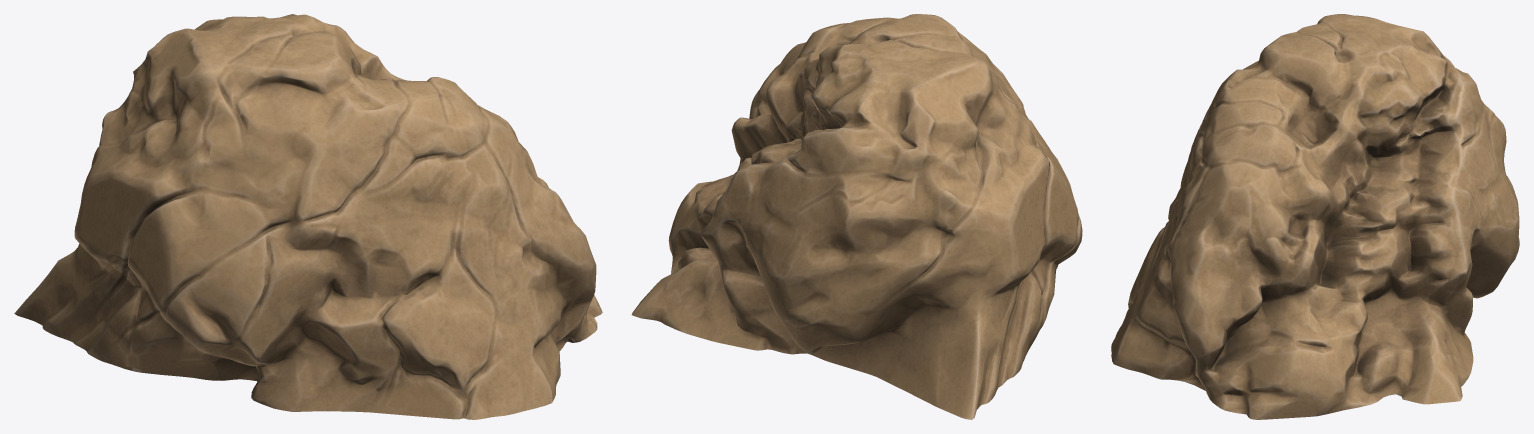
Rendered from LI ToonRock.obj.
The picture shows the model from 3 angles, left to right: view 1: azimuth 30°, elevation 25°; view 2: azimuth 150°, elevation 25°; view 3: azimuth 270°, elevation 25°; orthographic projection. The views are drawn at different scales.
Parts seen in each view (by area): view 1: Group14896; view 2: Group14896; view 3: Group14896.
Boxes of the visible parts, bbox=[...] form: Group14896: bbox=[14, 14, 602, 419]; Group14896: bbox=[631, 14, 1082, 419]; Group14896: bbox=[1111, 14, 1519, 419].
Bounding box in the file's own units: 200 × 132 × 185.
Materials: 1 (1 with a texture image).
